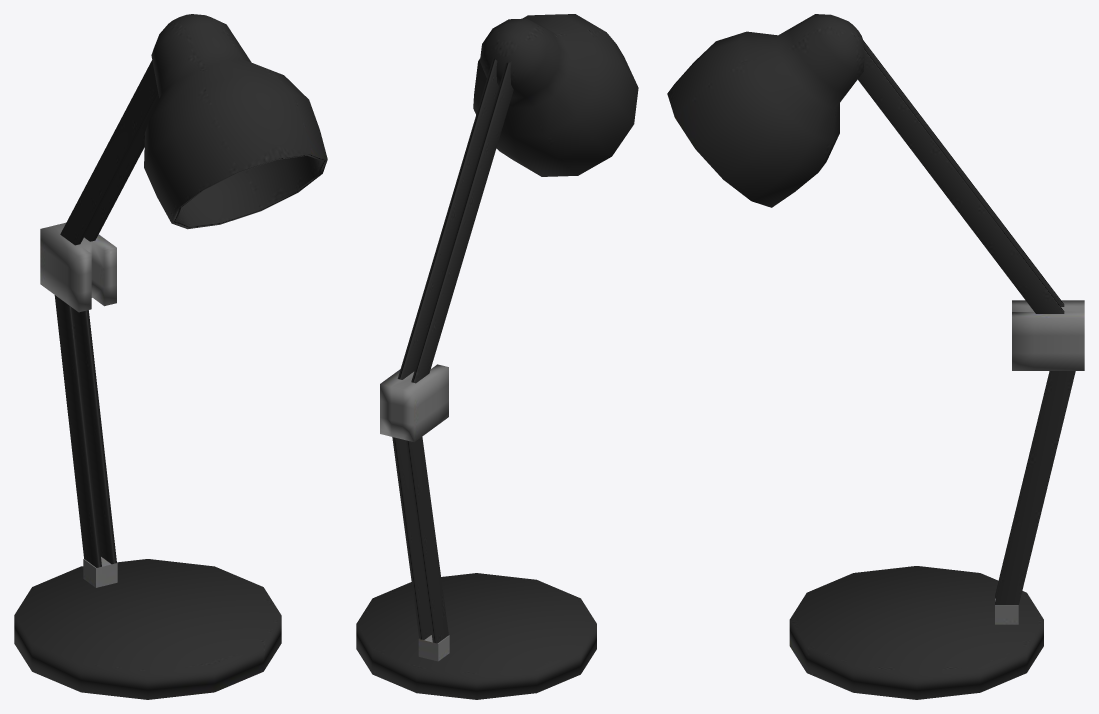
Rendered from lamp.fbx.
The picture shows the model from 3 angles, left to right: view 1: azimuth 30°, elevation 25°; view 2: azimuth 150°, elevation 25°; view 3: azimuth 270°, elevation 25°; orthographic projection. The views are drawn at different scales.
Visible parts, largest first — view 1: lamp; view 2: lamp; view 3: lamp.
Boxes of the visible parts, box(x1,y1,x2,y2) form: lamp: box(14, 14, 327, 699); lamp: box(356, 14, 638, 699); lamp: box(667, 14, 1084, 699).
Size of the model in its own units: 13.33 by 36.35 by 21.9.
1 material, 1 textured.
